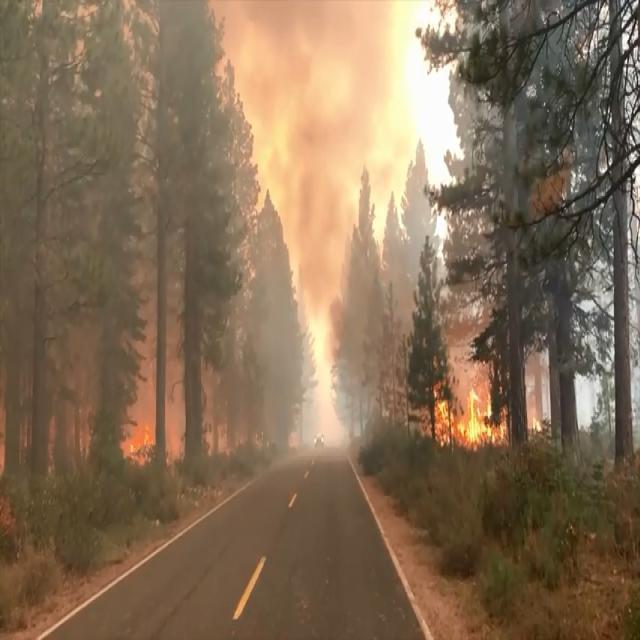Fire: (423, 375, 512, 452)
